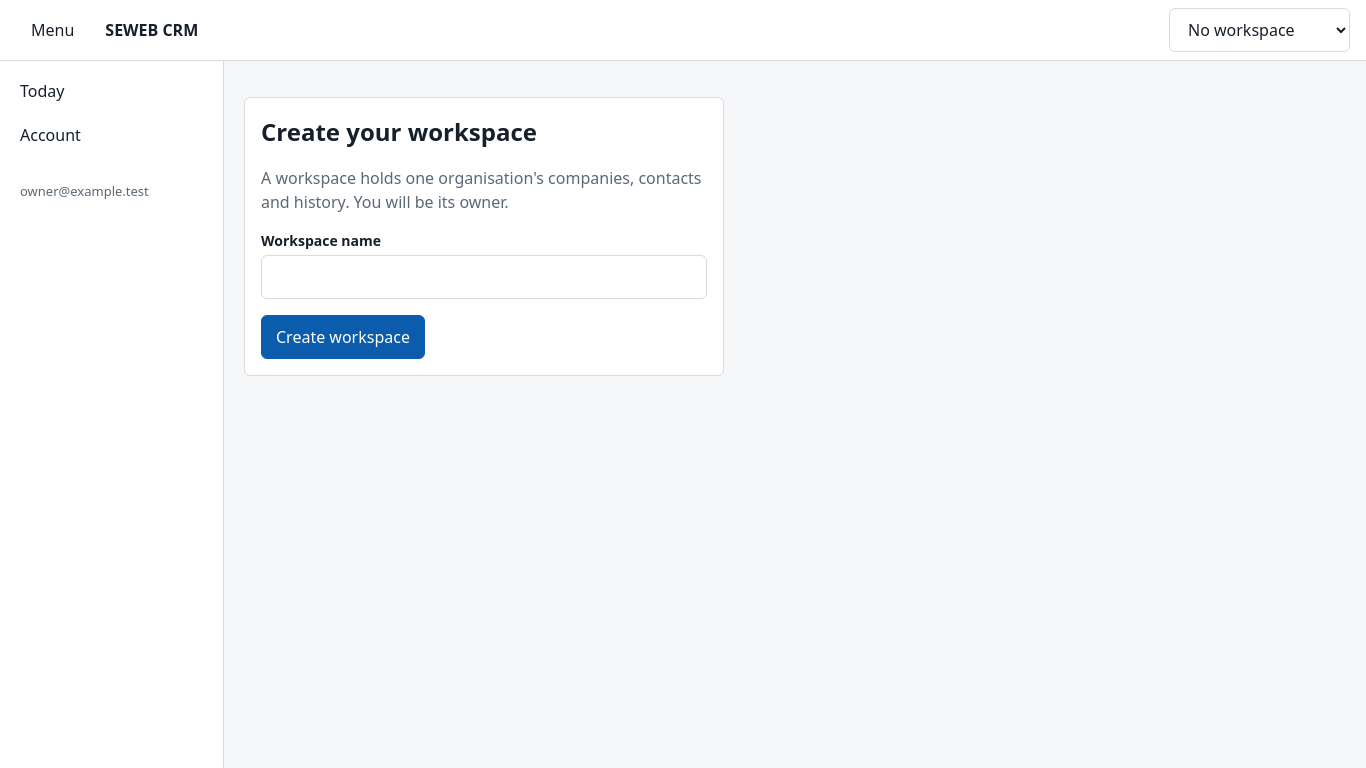
signed in › asks a user without a workspace to create one, sending the CSRF token
In the field labelled "Workspace name": (484,277) [261,255,707,299], type "Acme North"
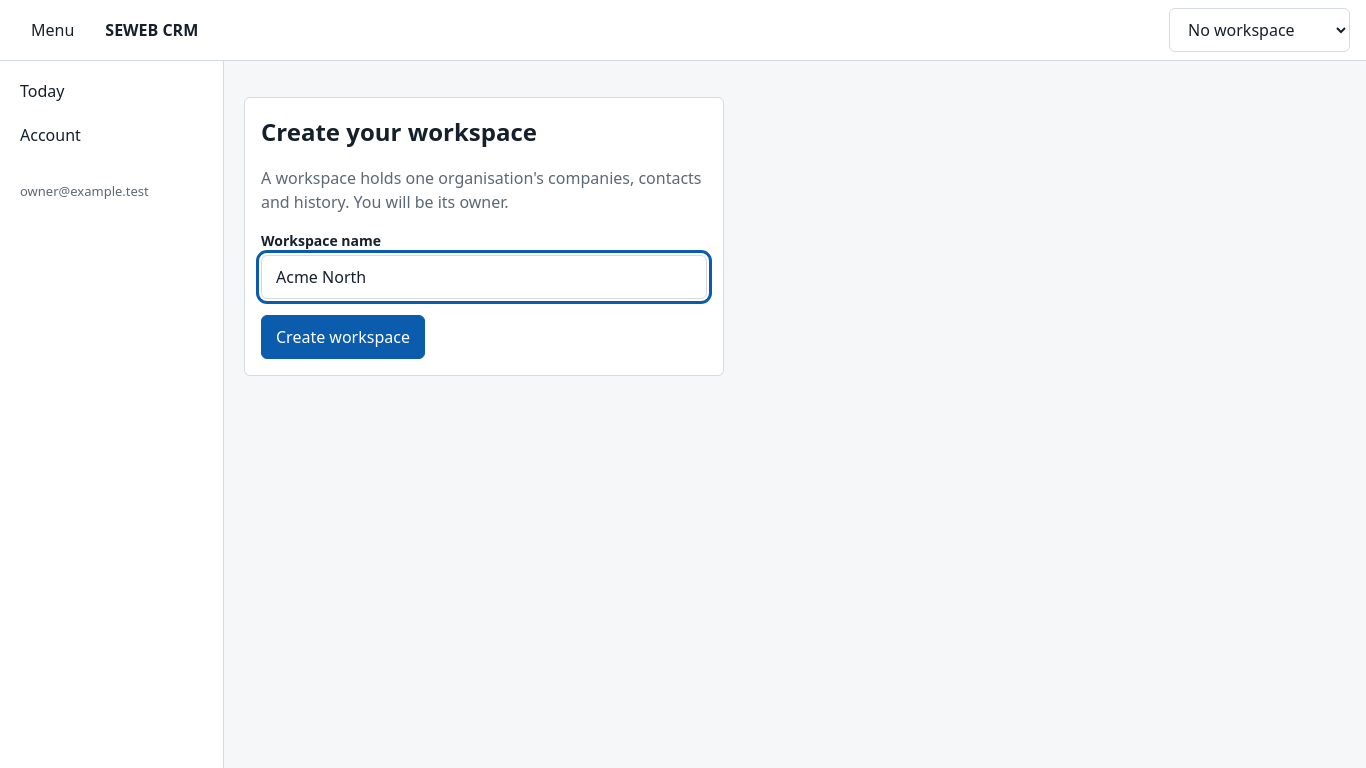
Click the button "Create workspace": (343,337) [261,315,425,359]
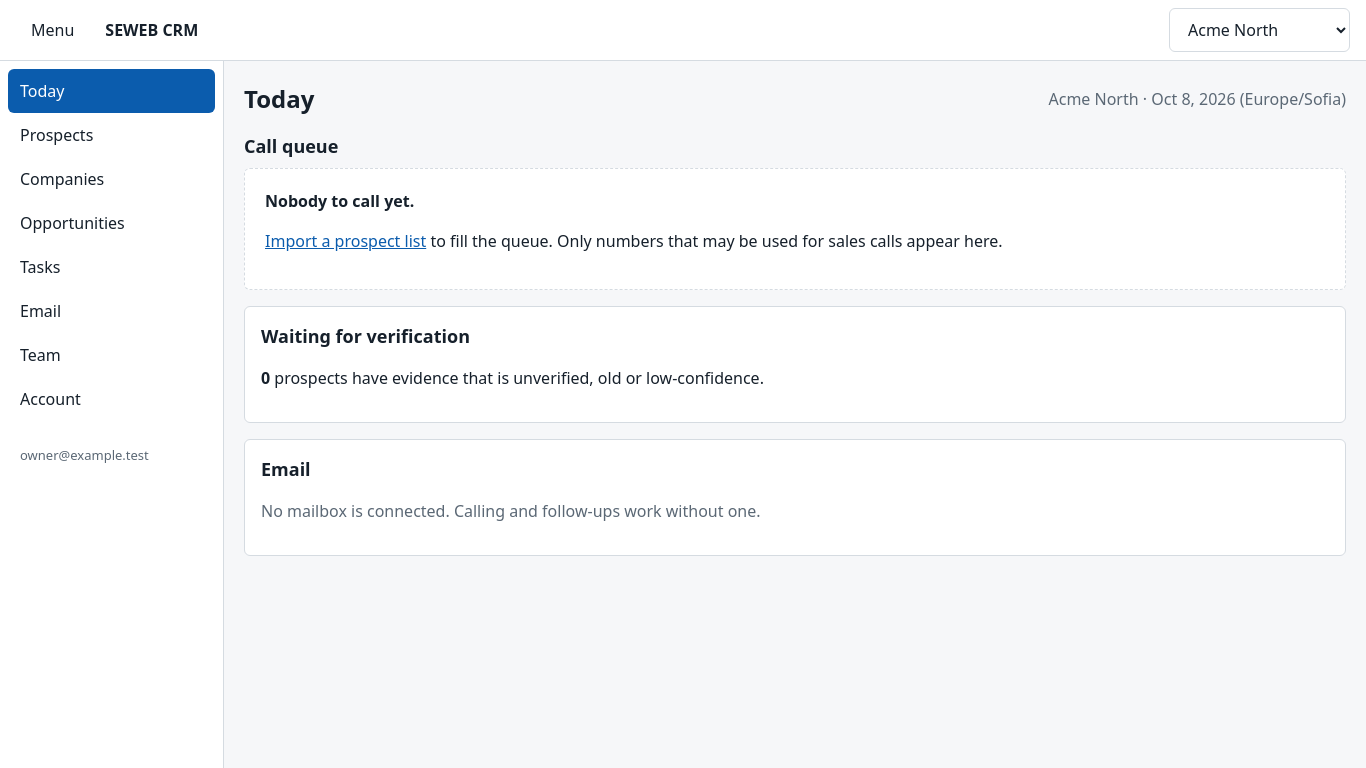
Result: the heading "Today" is shown at [244,81,314,117]
